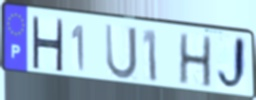1: (142, 28, 159, 84), (71, 24, 86, 72)
H: (30, 14, 65, 74), (177, 32, 213, 89)
J: (216, 34, 249, 94)
U: (103, 22, 139, 82)
